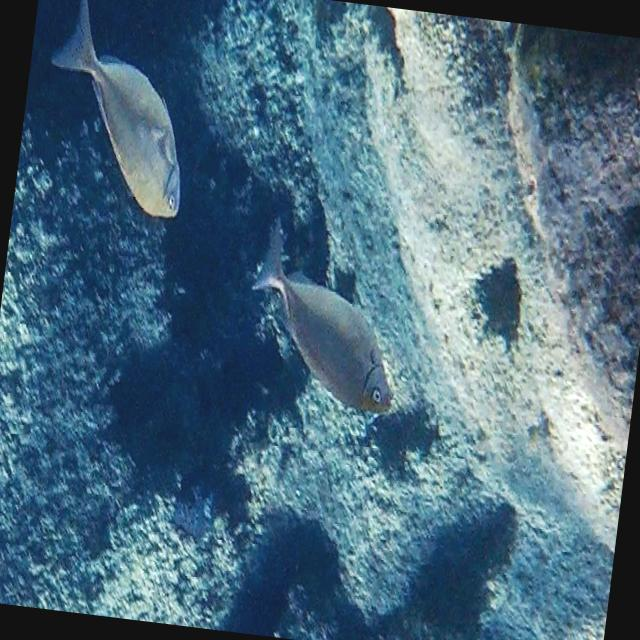Sokar Baligi: (230, 206, 418, 436), (27, 0, 212, 232)
